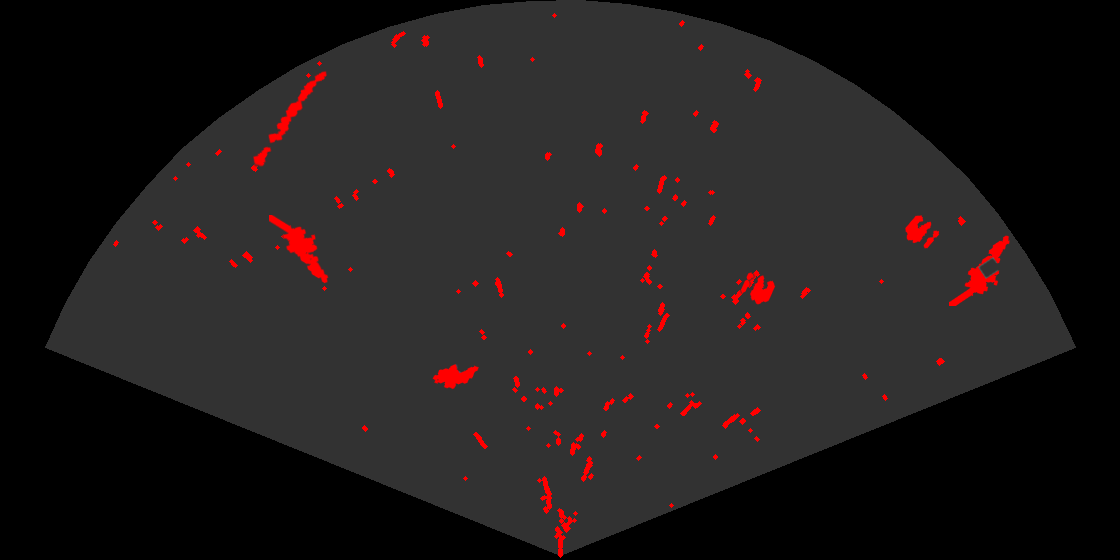AUV: (431, 363, 480, 391)
ball: (904, 214, 941, 250), (739, 271, 777, 306)
chain: (252, 69, 329, 168)
frogman: (949, 234, 1011, 306), (269, 215, 330, 285)
